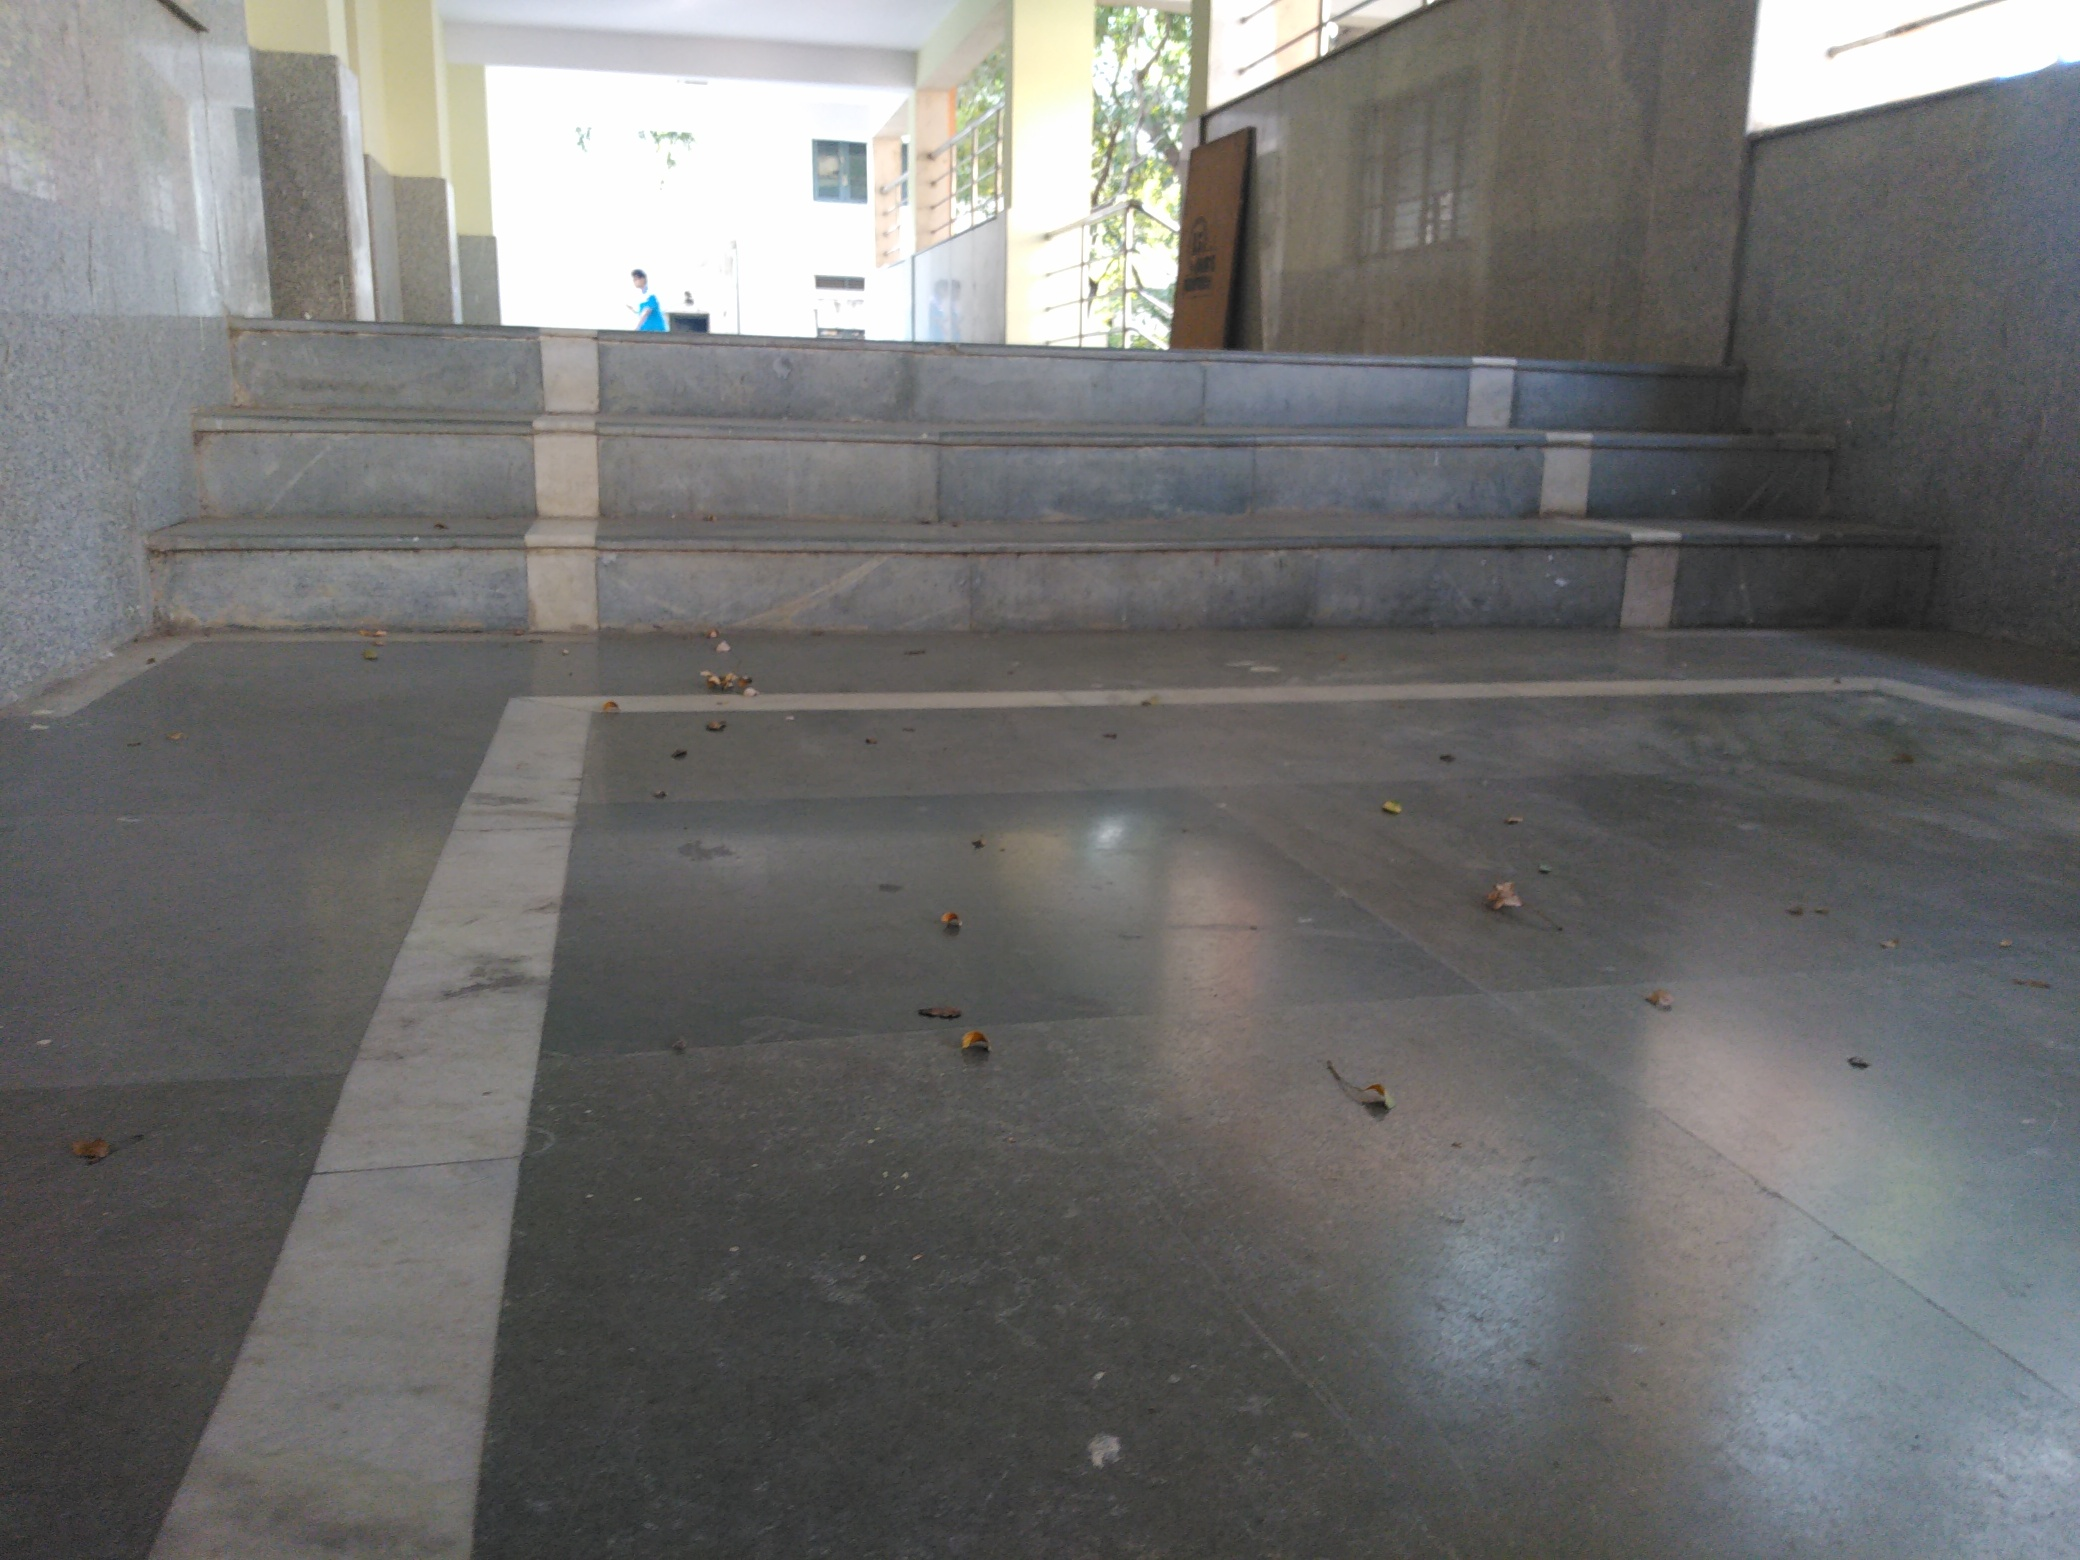stairs_up: (215, 305, 1890, 623)
